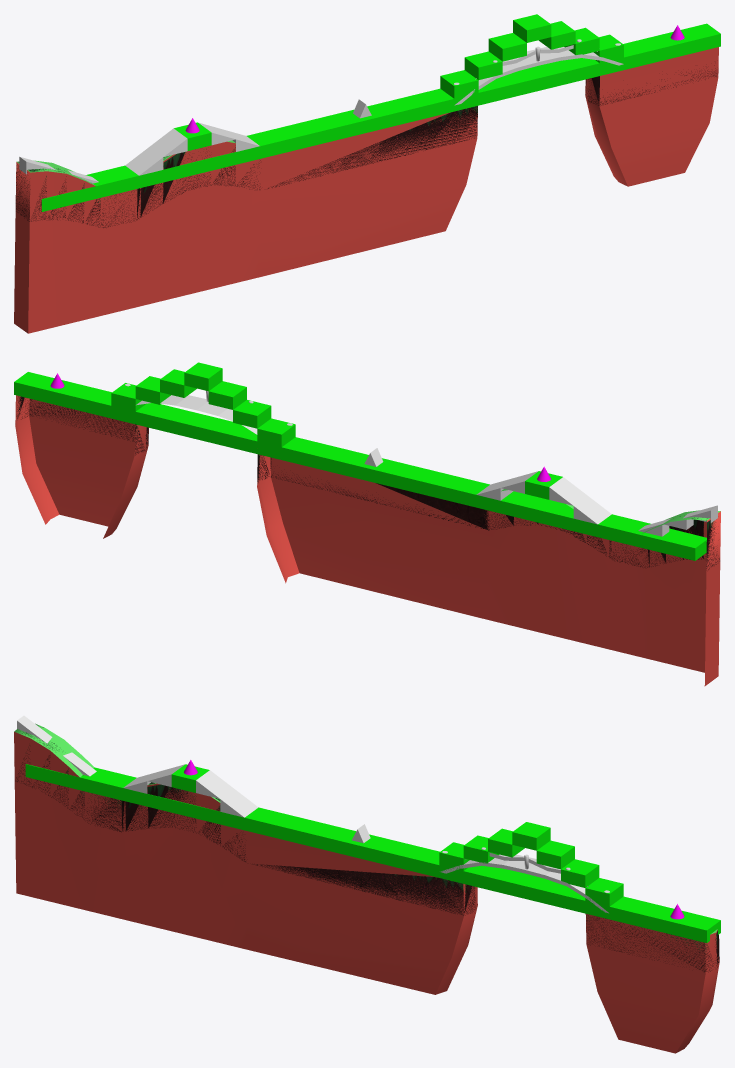
File: M_TestEnviromentV2.glb
3 views of the same model, one above another, from view 1: azimuth 30°, elevation 25°; view 2: azimuth 150°, elevation 25°; view 3: azimuth 330°, elevation 25° (orthographic).
Visible parts, largest first — view 1: Enviroment_high, Blockout, Enviroment_low, Cube.001; view 2: Enviroment_high, Blockout, Enviroment_low, Cube.001; view 3: Enviroment_high, Blockout, Enviroment_low, Cube.001.
Part boxes in pixels (x1,y1,x2,y2): Enviroment_high: (14, 47, 718, 333); Blockout: (19, 14, 720, 211); Enviroment_low: (15, 65, 717, 227); Cube.001: (454, 47, 623, 105); Enviroment_high: (15, 395, 720, 686); Blockout: (14, 362, 717, 560); Enviroment_low: (16, 396, 719, 569); Cube.001: (136, 395, 257, 434); Enviroment_high: (14, 724, 719, 1053); Blockout: (17, 715, 720, 942); Enviroment_low: (15, 724, 719, 972); Cube.001: (440, 854, 608, 913).
Bounding box in the file's own units: 57.2 × 14.5 × 2.41.
Materials: 7 (1 with a texture image).
